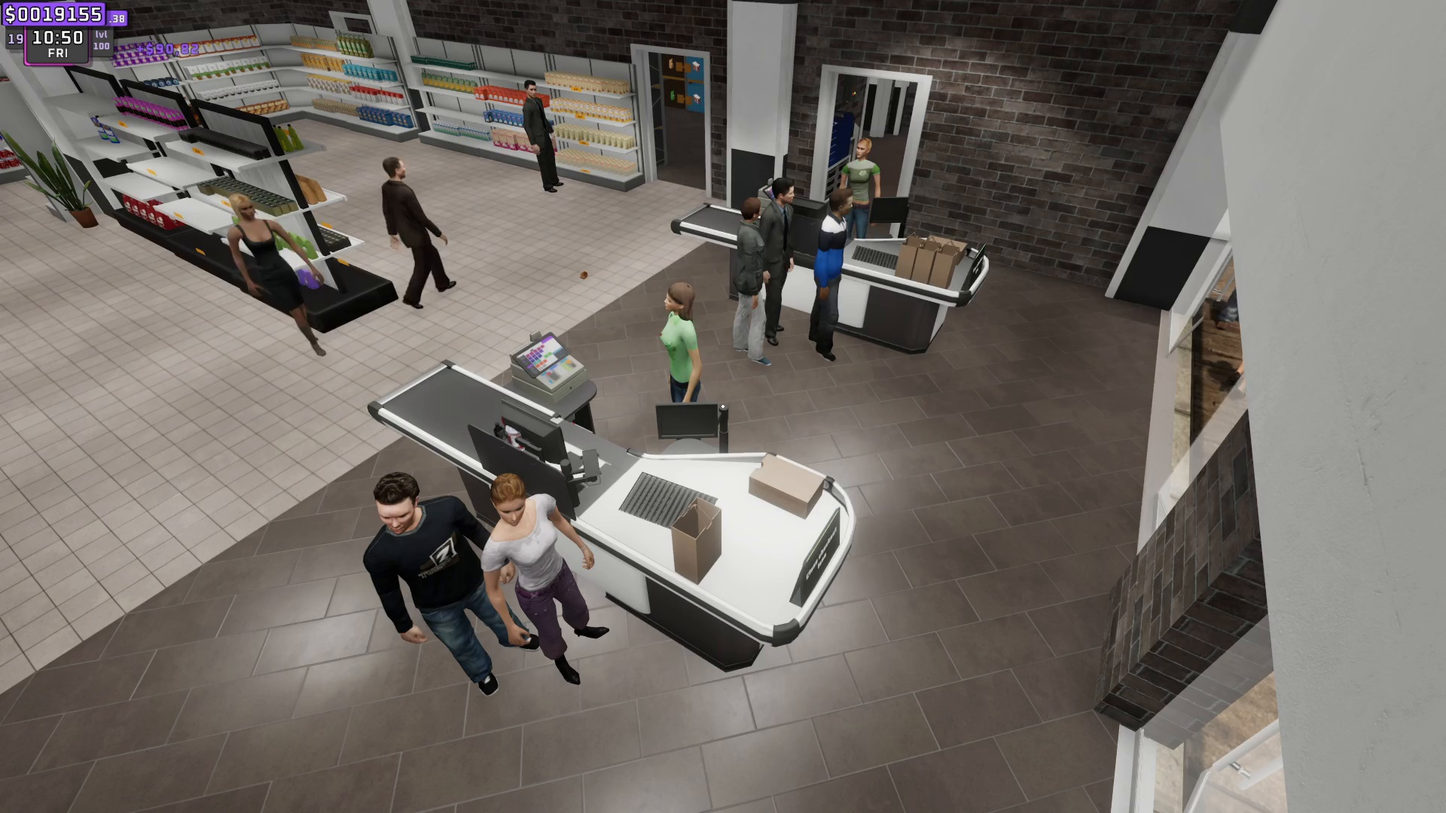Client: (359, 482, 521, 685), (492, 472, 610, 698), (820, 189, 859, 372), (736, 197, 775, 354), (765, 175, 796, 344)
Employee: (660, 276, 710, 396), (838, 141, 880, 228)
